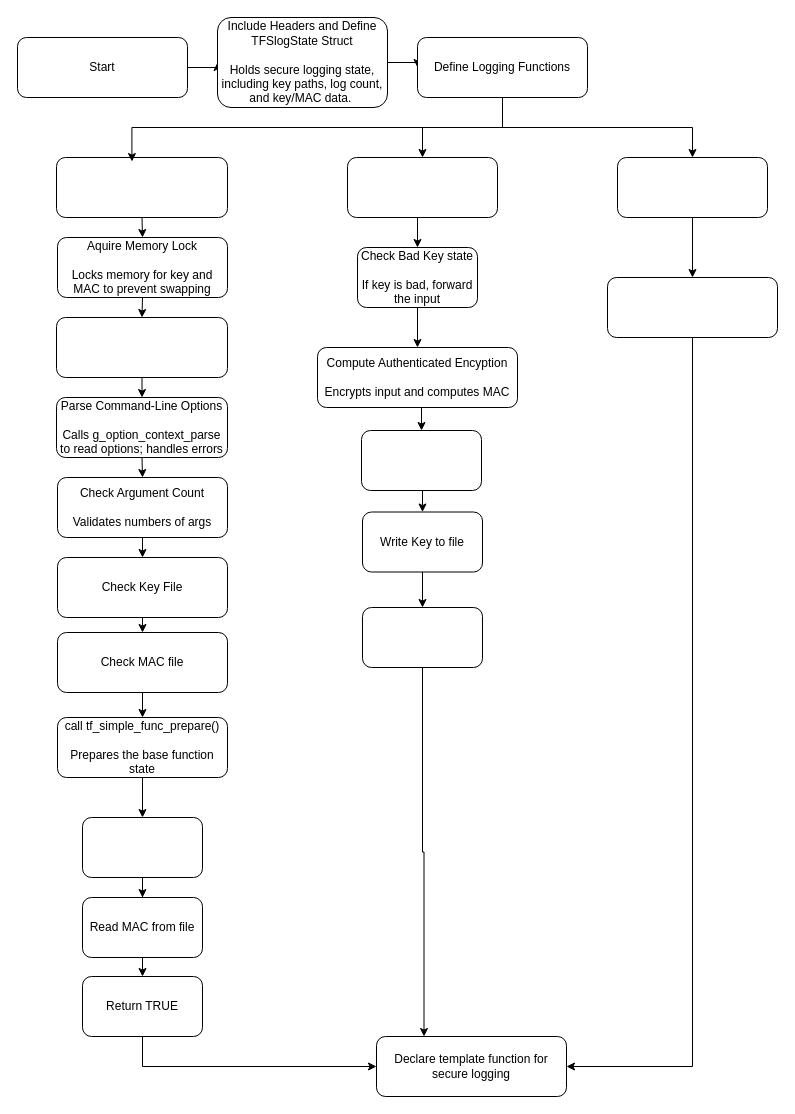
Image size: 795x1114. Some labels were removed from this diagram. Each missing label, with the centre of its shape:
"call tf_simple_func_free_state() Prepares the base function state" goes at point (692, 307).
"Define command-Line Options Sets up options for key and MAC file paths" goes at point (142, 347).
"Handle Empty Input" goes at point (421, 460).
"Read Key from file" goes at point (142, 847).
"tf_slog_call() Creates a new encrypted log entry." goes at point (422, 187).
"tf_slog_func_free_state() Cleans up resources for the secure logging state" goes at point (692, 187).
"tf_slog_prepare() Initializes the secure logging template" goes at point (142, 187).
"Write MAC to File" goes at point (422, 637).
